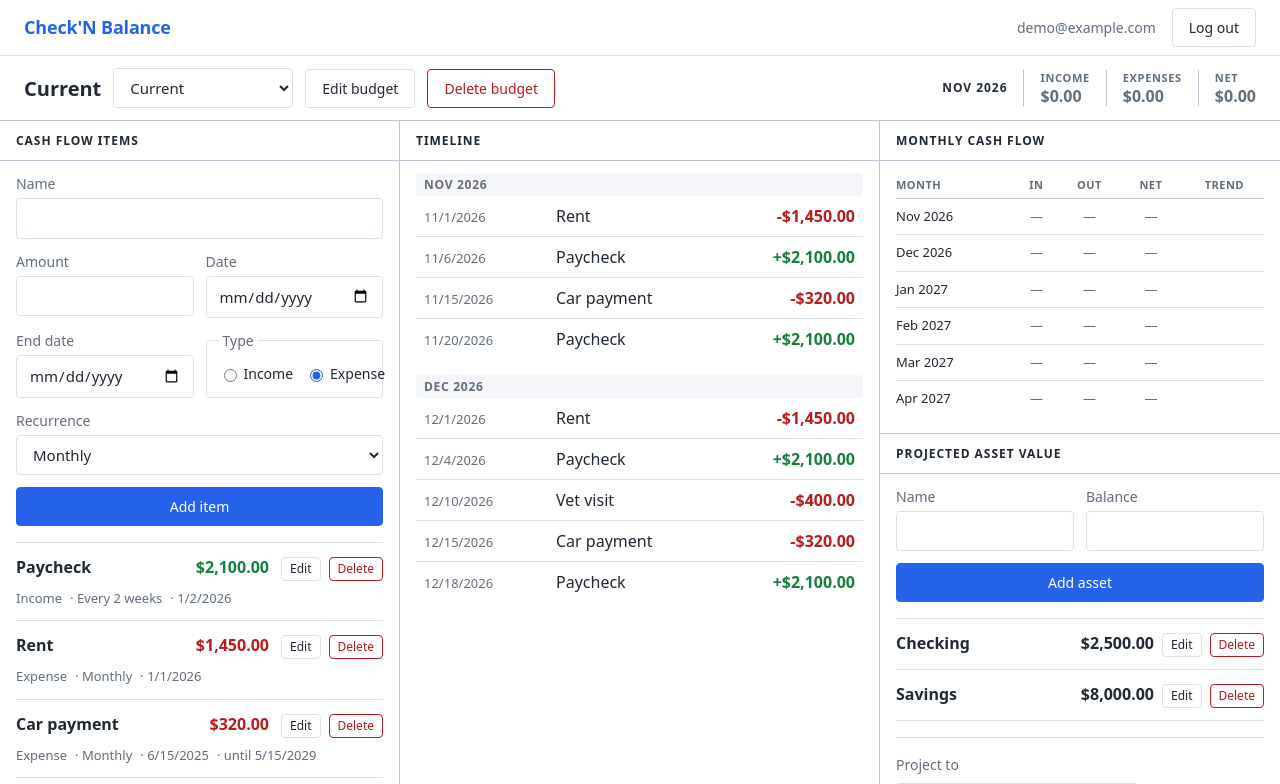
it: keeping it in sync › switching budgets shows the other budget's timeline
Check: the list item "11/6/2026 Paycheck +$2,100.00" is shown, box x1=416 y1=237 x2=863 y2=278
Step 1. Select "New car what-if" in the dropdown named "Budget" → (203, 88), box x1=113 y1=68 x2=293 y2=108
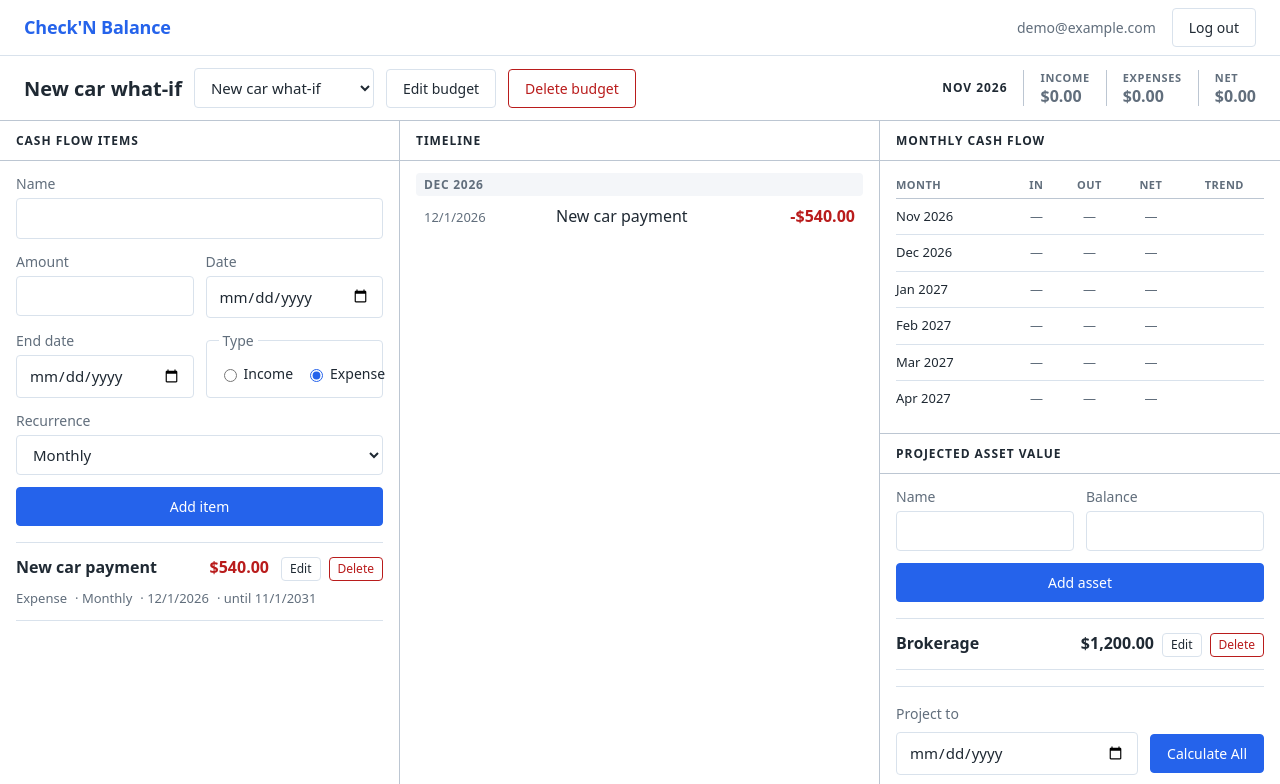
Check: the list item "12/1/2026 New car payment -$540.00" is shown, box x1=424 y1=205 x2=855 y2=227
